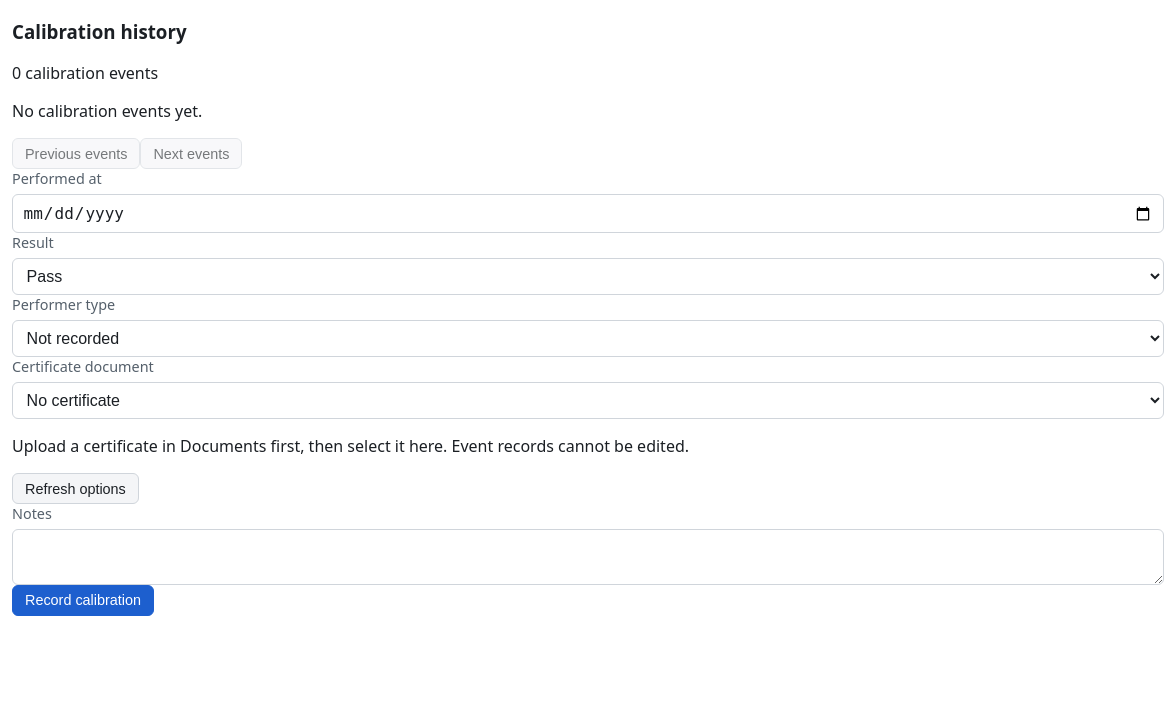
Test: CalibrationEventsPanel › records an external calibration with a certificate and refreshes history
The width and height of the screenshot is (1176, 720).
Type "2026-11-20" into the date field labelled "Performed at" at (588, 214), box [12,194,1164,233]
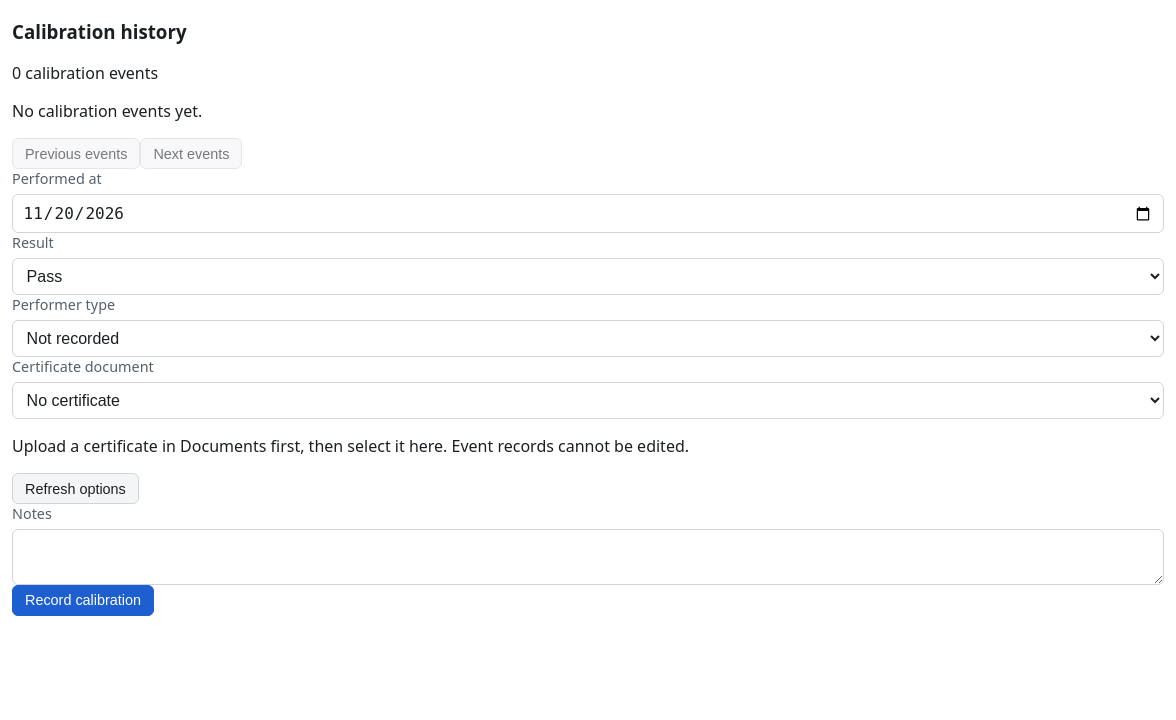
Select "Supplier" in the dropdown labelled "Performer type" at (588, 339), box [12,320,1164,357]
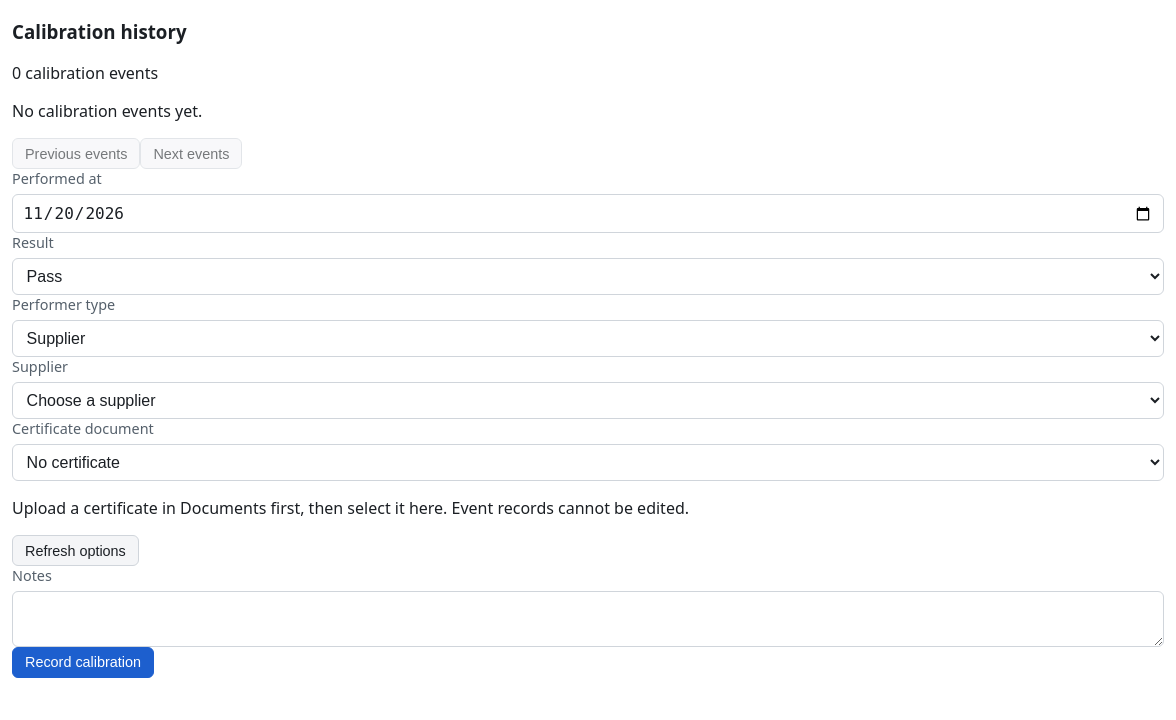
Select "Acme Calibration" in the dropdown labelled "Supplier" at (588, 401), box [12,382,1164,419]
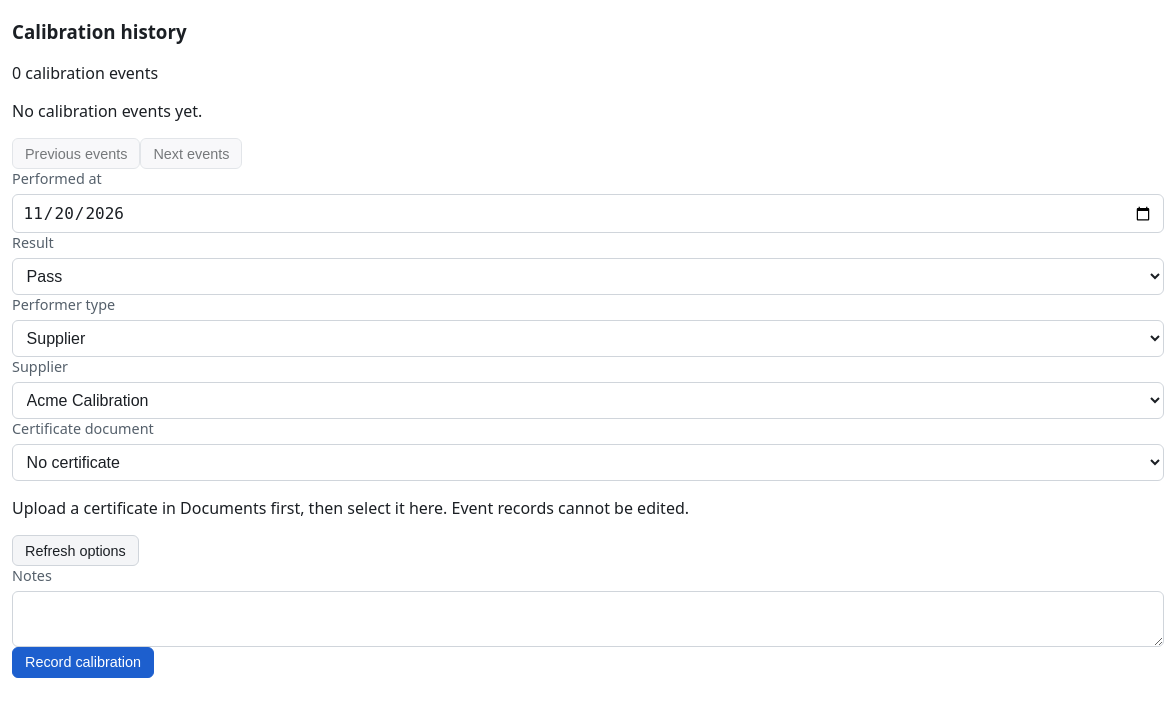
Select "CERT-001 — Calibration certificate" in the dropdown labelled "Certificate document" at (588, 463), box [12,444,1164,481]
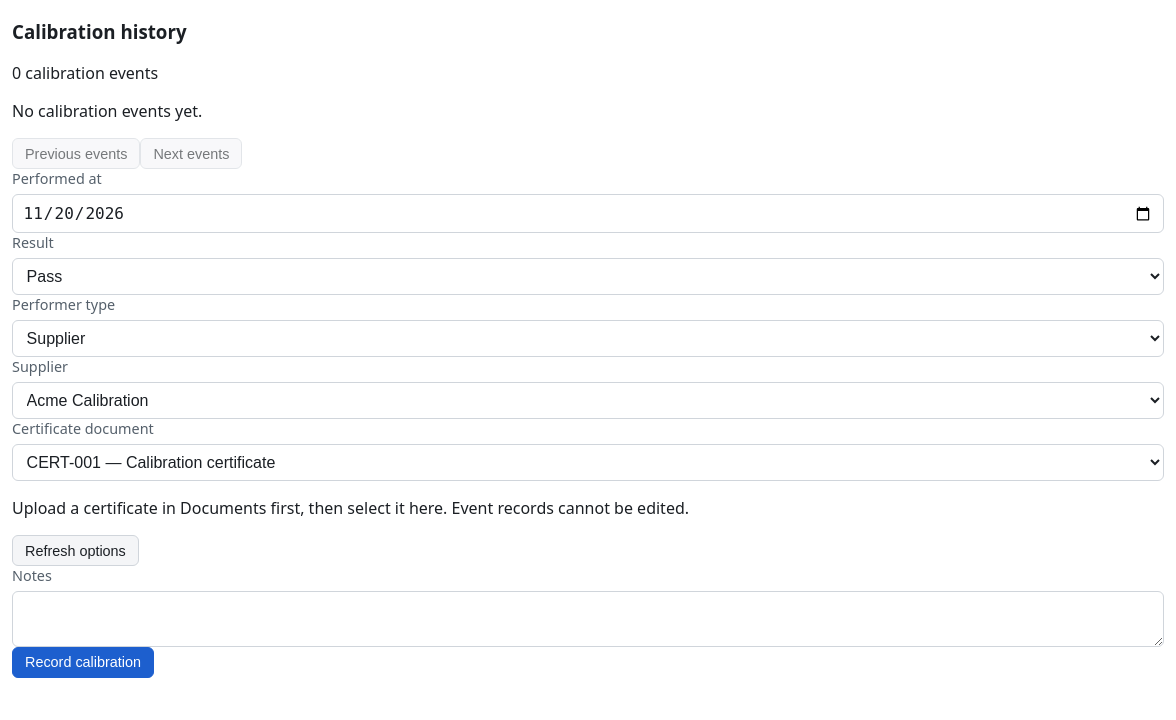
Type "Done" into the text box labelled "Notes" at (588, 619), box [12,591,1164,647]
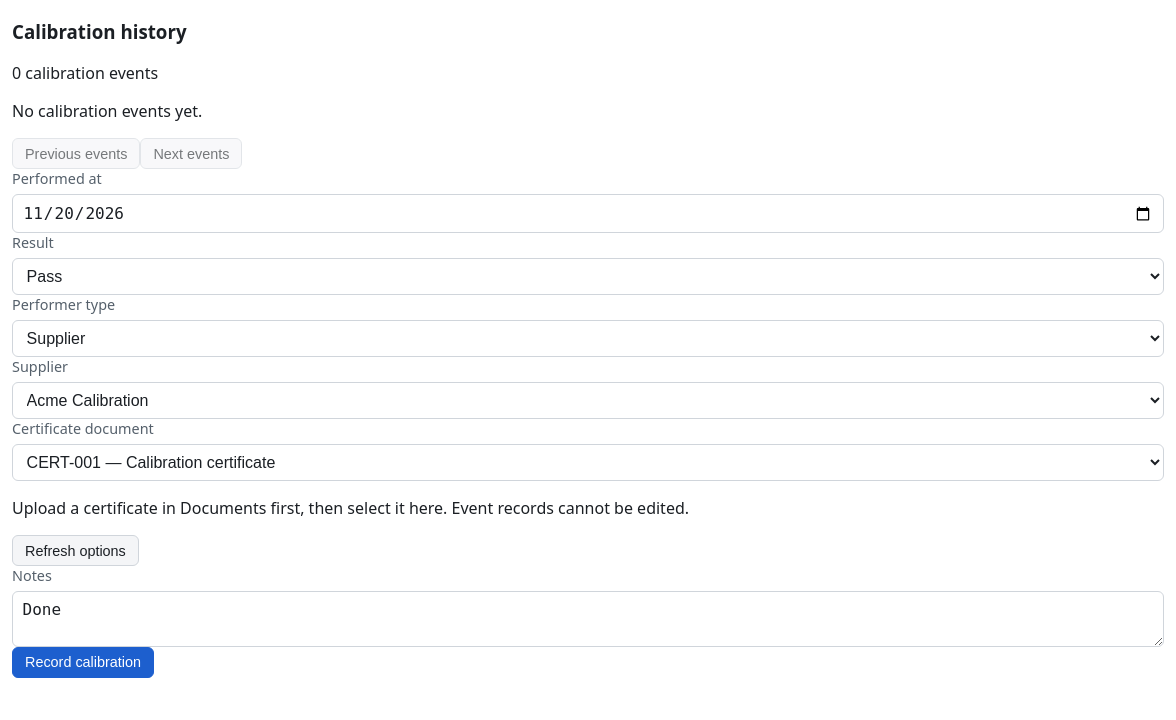
Click the button "Record calibration" at (83, 662), box [12,647,154,678]
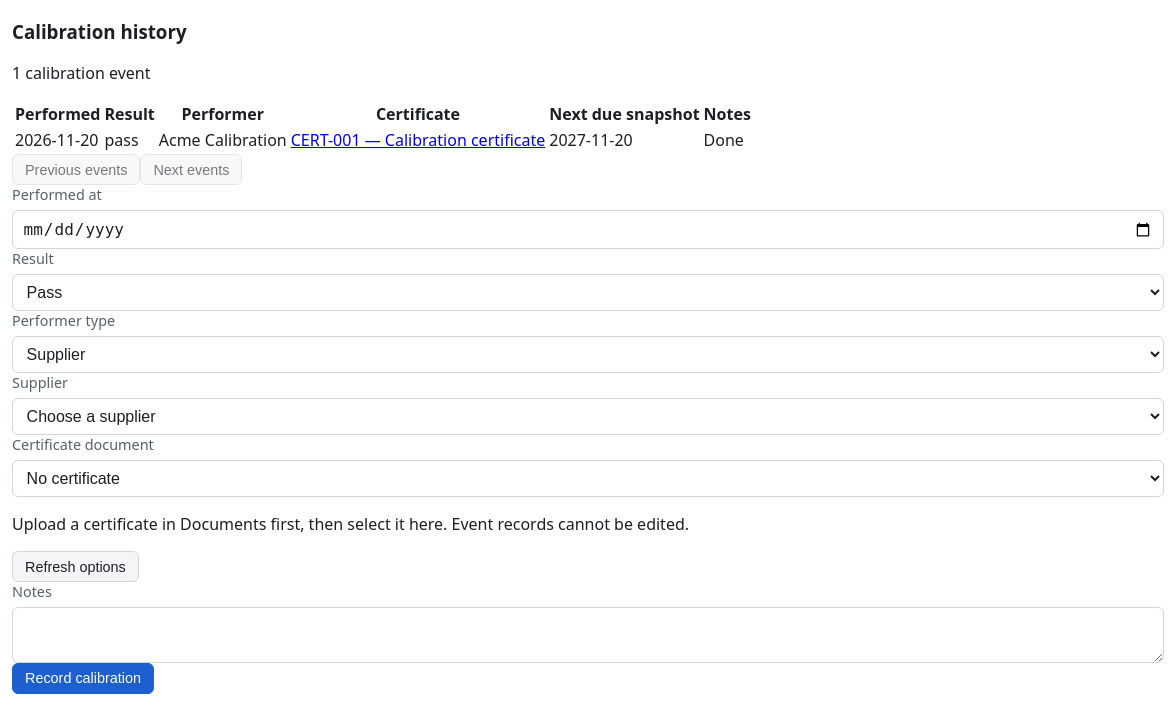
Now the text "2026-11-20" is shown, box [15,129,98,151]
